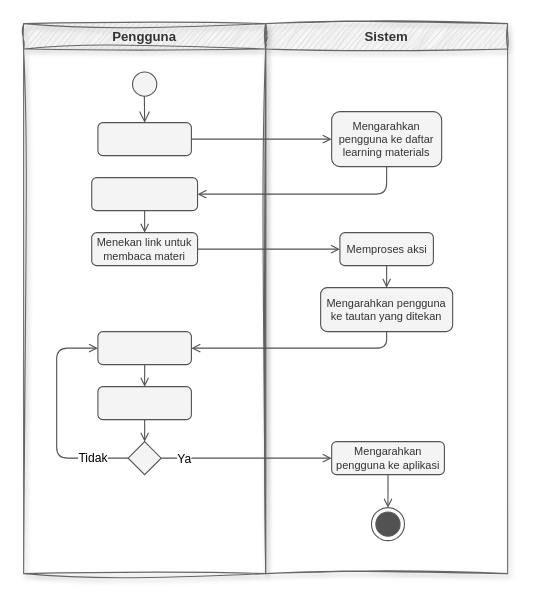
Image size: 534x601. Some labels were removed from this diagram. The shapes that lost their labels are listed below. From the top down, each one's centre as x and y in pixels, then its label:
At (x=144, y=139): "Tekan ikon berkas ( file )".
At (x=144, y=194): "Menelusuri materi yang ingin dibaca".
At (x=144, y=348): "Membaca materi".
At (x=144, y=403): "Kembali ke aplikasi".
